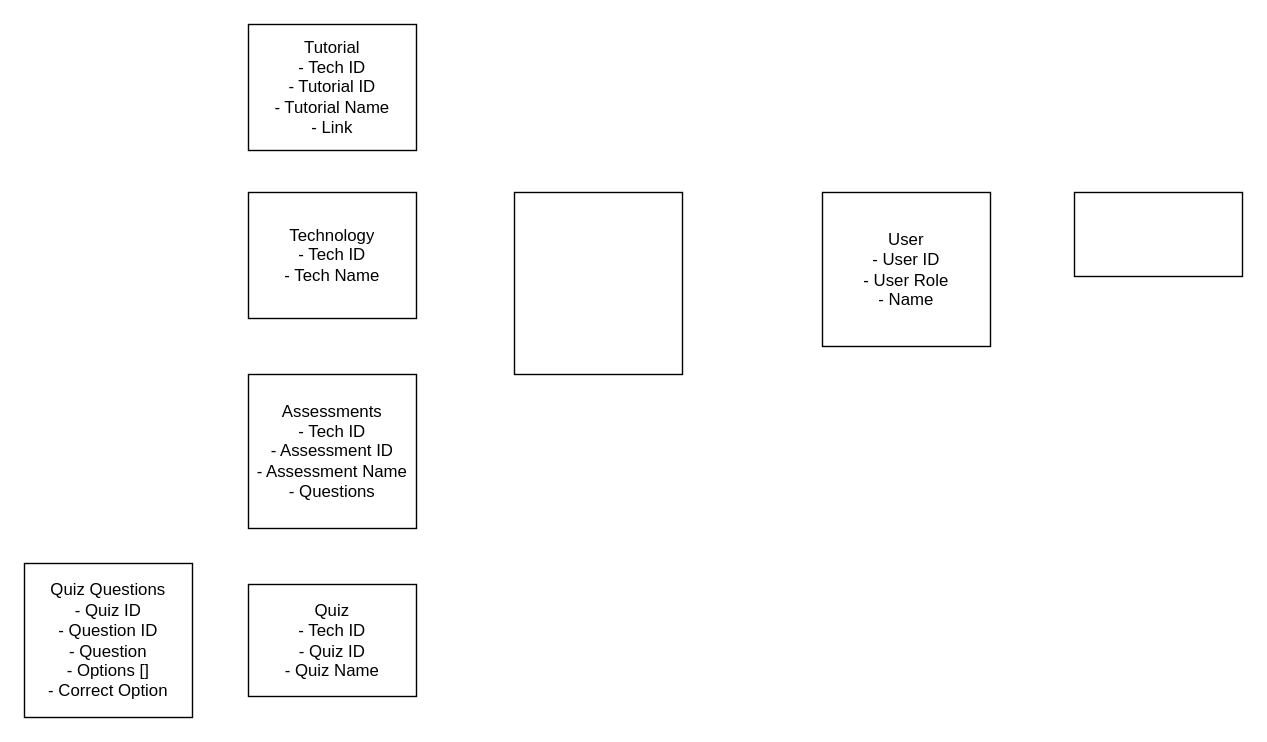
The diagram is 1267 pixels wide and 742 high, and some of its shapes have lost their labels. The shapes that lost their labels are listed below. From the top down, each one's box as (x1, y1, x2, y2) in pixels, then its label:
(1073, 191, 1242, 276): Roles - Role ID - Role Name
(513, 191, 682, 374): Enrolled - User ID - Tech ID - Start Date - Progress - Grade
